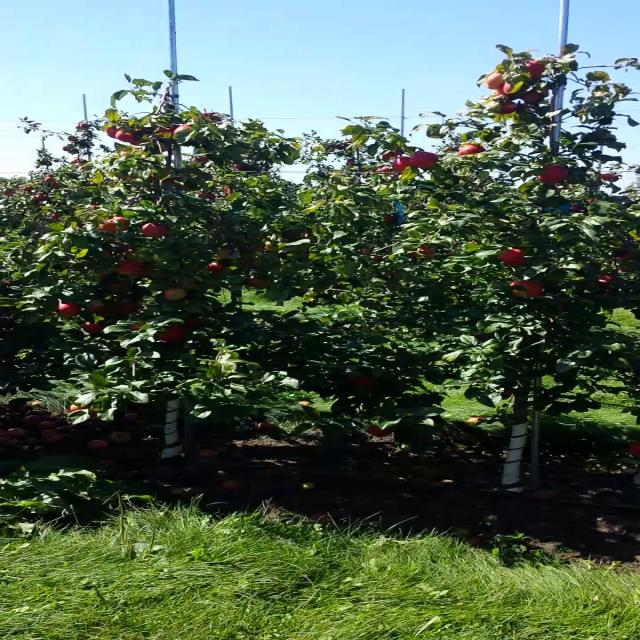apple: (534, 163, 570, 183), (507, 278, 542, 297), (96, 214, 129, 234), (111, 296, 144, 314), (54, 299, 82, 319), (136, 222, 169, 238), (153, 325, 186, 341), (500, 247, 526, 266), (522, 58, 546, 78), (113, 259, 143, 275), (455, 141, 489, 155), (411, 244, 437, 262), (482, 69, 505, 89), (409, 152, 437, 168), (520, 90, 546, 106), (492, 80, 514, 98), (364, 424, 392, 438), (80, 318, 104, 334), (390, 155, 411, 173), (160, 288, 187, 302), (344, 374, 373, 387), (83, 303, 109, 317), (212, 248, 241, 260), (591, 272, 614, 287), (36, 429, 64, 440), (113, 280, 132, 296), (308, 509, 332, 521), (498, 100, 518, 114), (177, 316, 198, 329), (105, 124, 122, 140), (83, 440, 109, 450), (116, 129, 134, 143), (172, 125, 194, 136), (219, 479, 241, 490), (614, 252, 634, 264), (2, 427, 26, 437), (68, 401, 87, 413), (623, 441, 639, 455), (20, 414, 42, 424), (108, 432, 130, 442), (199, 448, 220, 458), (463, 416, 486, 425), (182, 278, 199, 290), (203, 262, 223, 272), (245, 276, 265, 286), (262, 240, 278, 252), (152, 125, 173, 134), (39, 420, 57, 430), (255, 421, 277, 429), (162, 177, 180, 186), (298, 482, 316, 491), (130, 139, 148, 147), (126, 322, 144, 330), (251, 257, 263, 267), (297, 400, 311, 408), (118, 152, 131, 158)
